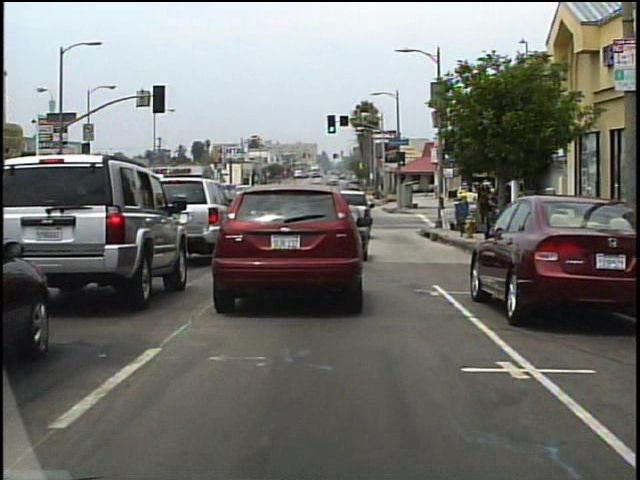person: (479, 189, 494, 222)
